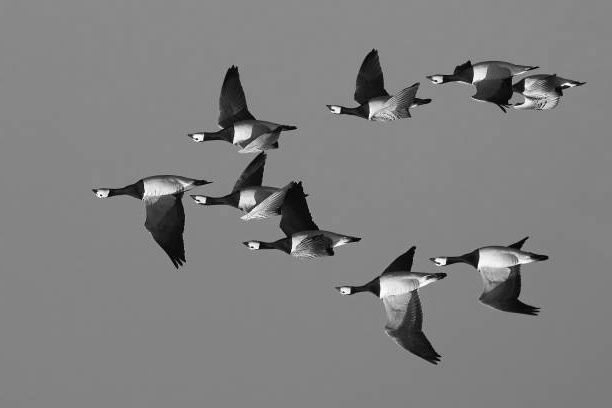Bird: (331, 243, 452, 366), (90, 174, 215, 273), (428, 229, 551, 318), (183, 61, 299, 154), (241, 183, 363, 260), (323, 43, 436, 124), (189, 149, 313, 215), (425, 55, 539, 115), (503, 72, 588, 110)
